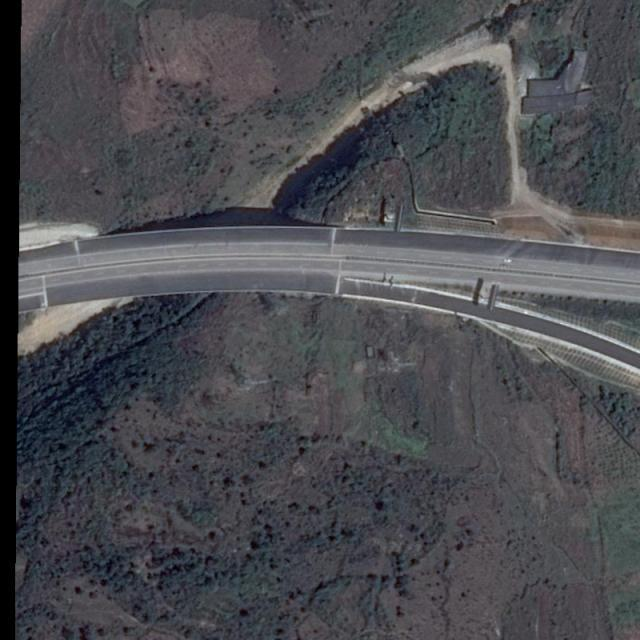vehicle: (501, 257, 513, 264)
